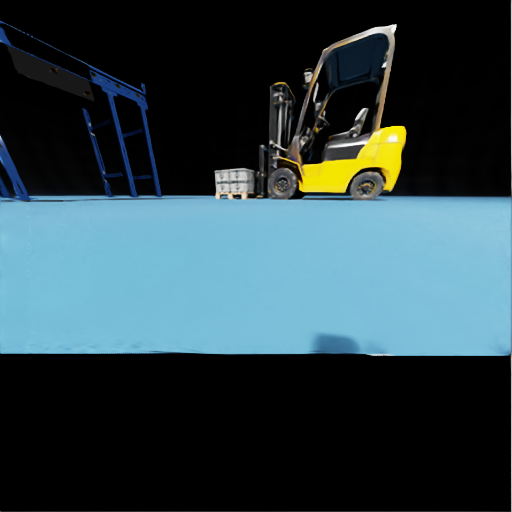transportation_area: (230, 181, 257, 192)
